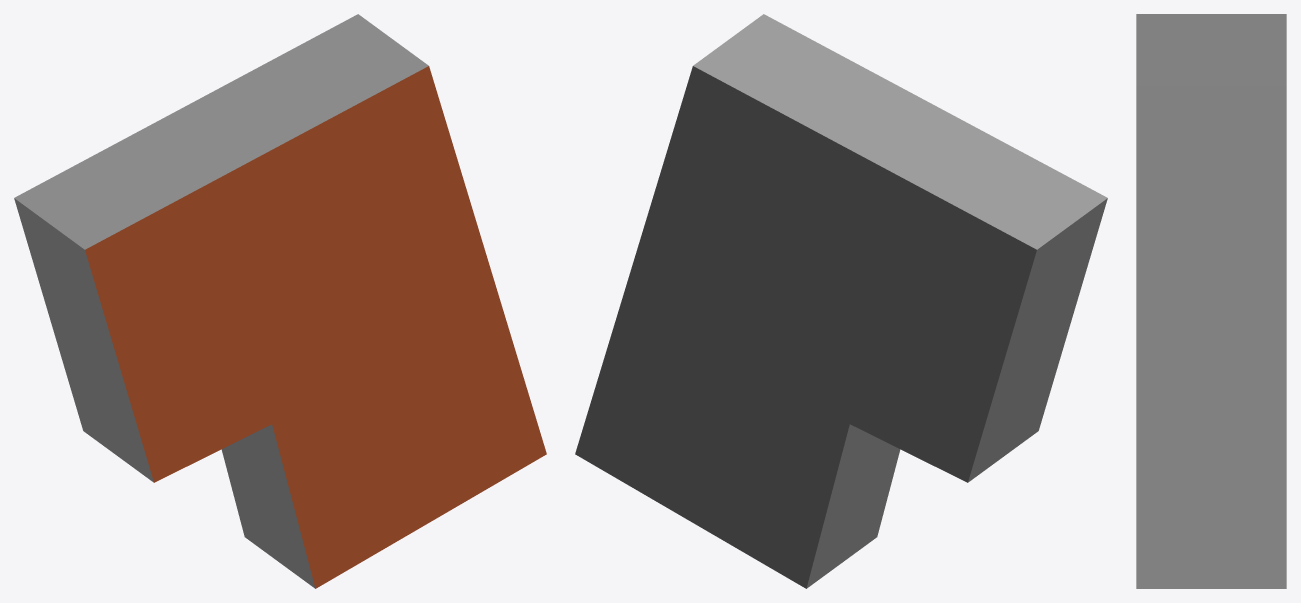
Rendered from construction_6378_assumed_A_Casa_h6m.obj.
The picture shows the model from 3 angles, left to right: view 1: azimuth 30°, elevation 25°; view 2: azimuth 150°, elevation 25°; view 3: azimuth 270°, elevation 25°; orthographic projection. The views are drawn at different scales.
Visible parts, largest first — view 1: construction_6378_assumed_A_Casa; view 2: construction_6378_assumed_A_Casa; view 3: construction_6378_assumed_A_Casa.
Boxes of the visible parts, bbox=[...] form: construction_6378_assumed_A_Casa: bbox=[14, 14, 546, 588]; construction_6378_assumed_A_Casa: bbox=[575, 14, 1107, 588]; construction_6378_assumed_A_Casa: bbox=[1136, 14, 1286, 588].
Size of the model in its own units: 22.58 by 23.14 by 6.
